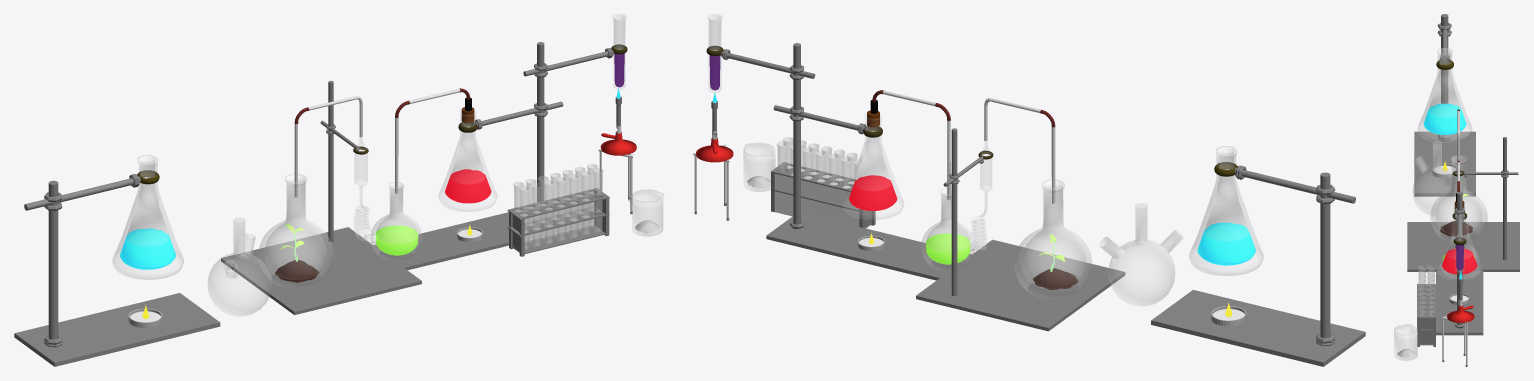
The model's file is stylized_chemistry_set.glb.
3 views of the same model, side by side, from view 1: azimuth 30°, elevation 25°; view 2: azimuth 150°, elevation 25°; view 3: azimuth 270°, elevation 25° (orthographic). The views are drawn at different scales.
Visible parts, largest first — view 1: Cube.001_54, Cube_55, Sphere.001_31, Cylinder.005_46, Cylinder_50, Sphere.002_30, Cube.002_53, Cube.096_51, Cylinder.134_35, Sphere.006_26, Cylinder.006_45, Cylinder.001_49 (+10 smaller); view 2: Cube.001_54, Cube_55, Sphere.001_31, Cylinder.005_46, Cube.096_51, Sphere.002_30, Cylinder.134_35, Cube.006_52, Sphere.006_26, Cylinder.001_49, Cylinder.006_45, Cylinder.010_41 (+10 smaller); view 3: Cube.001_54, Cube_55, Cylinder.005_46, Cube.096_51, Sphere.001_31, Sphere.002_30, Cylinder.134_35, Cube.002_53, Circle_60, Cylinder.141_32, Cylinder.003_48, Cylinder.013_38 (+15 smaller).
Boxes of the visible parts, bbox=[...] form: Cube.001_54: bbox=[221, 227, 421, 314]; Cube_55: bbox=[14, 293, 220, 366]; Sphere.001_31: bbox=[259, 174, 333, 288]; Cylinder.005_46: bbox=[112, 155, 183, 279]; Cylinder_50: bbox=[519, 168, 603, 250]; Sphere.002_30: bbox=[208, 218, 271, 316]; Cube.002_53: bbox=[507, 188, 609, 256]; Cube.096_51: bbox=[373, 212, 509, 270]; Cylinder.134_35: bbox=[438, 110, 497, 211]; Sphere.006_26: bbox=[364, 182, 421, 260]; Cylinder.006_45: bbox=[48, 180, 58, 339]; Cylinder.001_49: bbox=[513, 164, 597, 242]; Cube.001_54: bbox=[916, 239, 1125, 331]; Cube_55: bbox=[1151, 290, 1365, 366]; Sphere.001_31: bbox=[1014, 179, 1091, 298]; Cylinder.005_46: bbox=[1189, 146, 1263, 275]; Cube.096_51: bbox=[766, 213, 971, 280]; Sphere.002_30: bbox=[1100, 203, 1183, 306]; Cylinder.134_35: bbox=[842, 114, 903, 219]; Cube.006_52: bbox=[774, 173, 859, 226]; Sphere.006_26: bbox=[921, 188, 983, 270]; Cylinder.001_49: bbox=[777, 141, 861, 188]; Cylinder.006_45: bbox=[1320, 172, 1330, 338]; Cylinder.010_41: bbox=[870, 90, 1055, 203]; Cube.001_54: bbox=[1407, 222, 1519, 271]; Cube_55: bbox=[1414, 131, 1475, 196]; Cylinder.005_46: bbox=[1418, 47, 1472, 142]; Cube.096_51: bbox=[1436, 270, 1483, 335]; Sphere.001_31: bbox=[1430, 155, 1487, 240]; Sphere.002_30: bbox=[1412, 141, 1451, 215]; Cylinder.134_35: bbox=[1437, 203, 1481, 280]; Cube.002_53: bbox=[1417, 284, 1436, 346]; Circle_60: bbox=[1394, 324, 1417, 360]; Cylinder.141_32: bbox=[1454, 215, 1465, 272]; Cylinder.003_48: bbox=[1447, 278, 1474, 322]; Cylinder.013_38: bbox=[1503, 137, 1506, 260].
Bounding box in the file's own units: 16.53 × 4.83 × 3.81.
